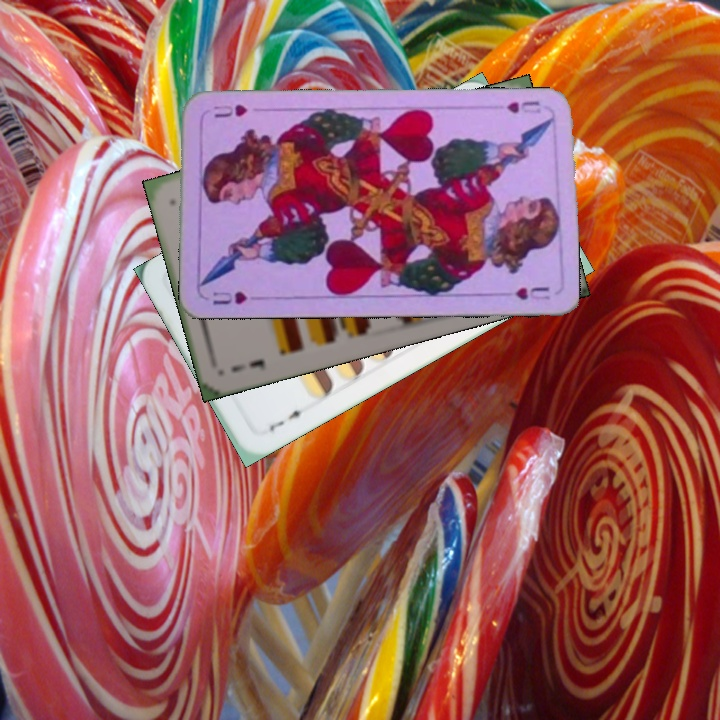E7: (264, 406, 310, 434), (228, 355, 267, 374)
HU: (502, 97, 544, 117), (209, 288, 250, 308)
